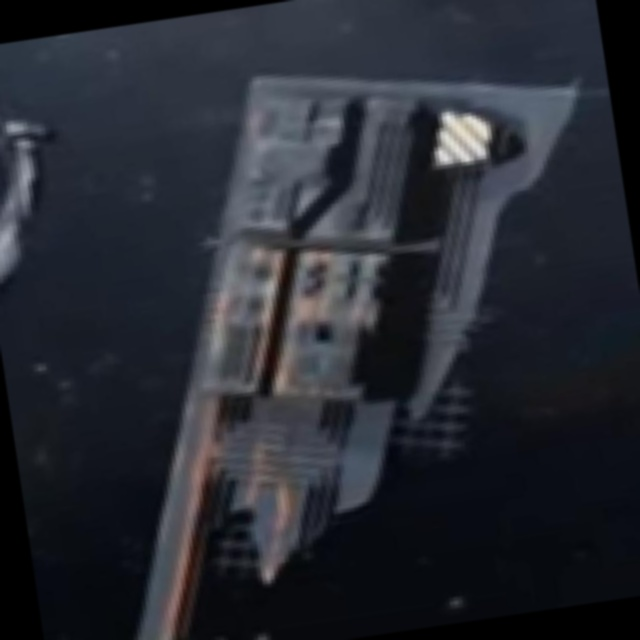large_debris: (61, 26, 640, 640), (0, 37, 91, 322)
